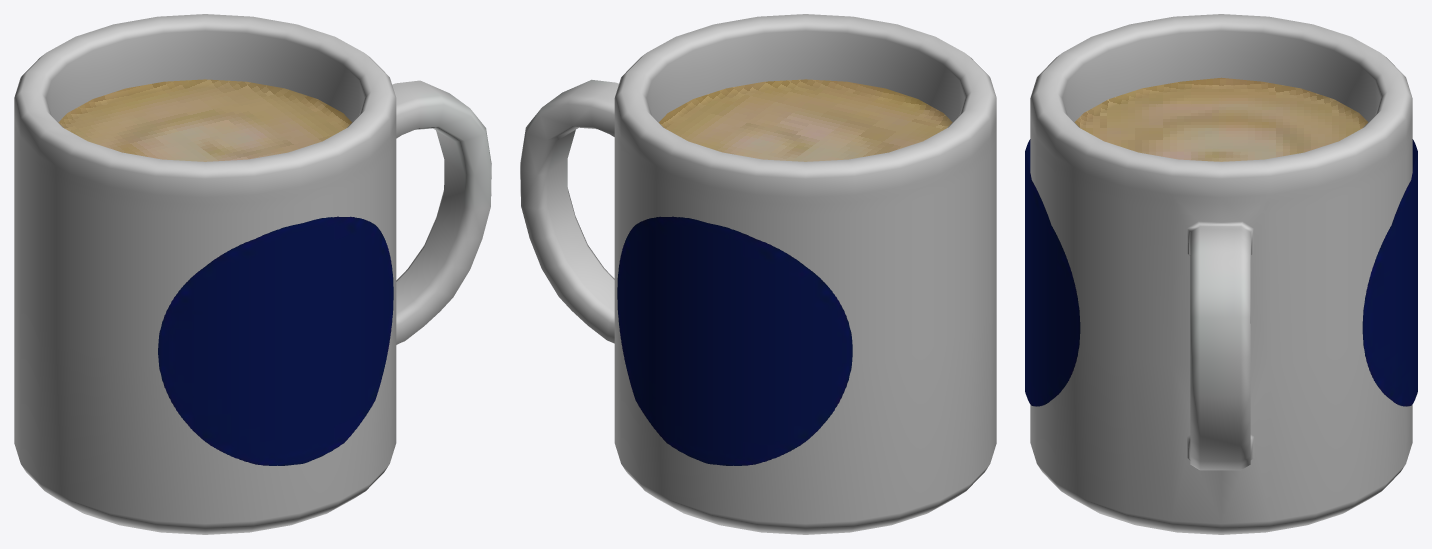
The picture shows the model from 3 angles, left to right: view 1: azimuth 30°, elevation 25°; view 2: azimuth 150°, elevation 25°; view 3: azimuth 270°, elevation 25°; orthographic projection.
Bounding box in the file's own units: 2.89 × 2.32 × 2.22.
Materials: 3 (3 with a texture image).
